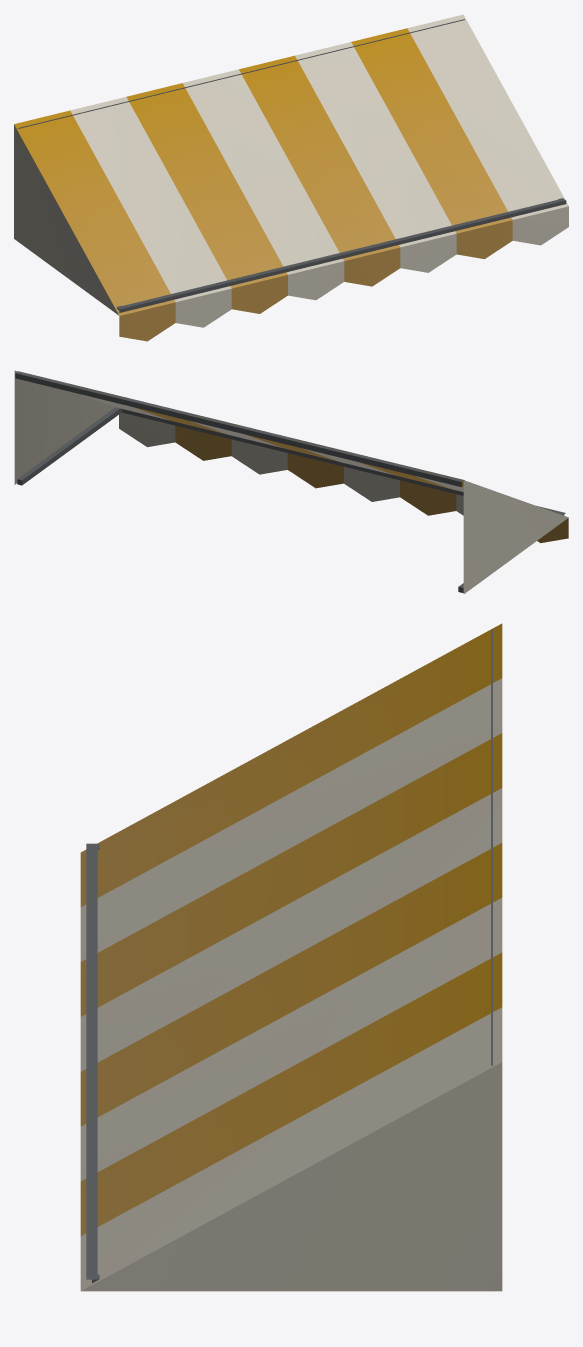
Rendered from shop.awning.yellow.glb.
3 views of the same model, one above another, from view 1: azimuth 30°, elevation 25°; view 2: azimuth 150°, elevation 25°; view 3: azimuth 270°, elevation 25° (orthographic). The views are drawn at different scales.
Parts seen in each view (by area): view 1: shop_awning_yellow; view 2: shop_awning_yellow; view 3: shop_awning_yellow.
Boxes of the visible parts, x1,y1,x2,y2 form: shop_awning_yellow: (14, 14, 568, 341); shop_awning_yellow: (14, 370, 568, 593); shop_awning_yellow: (80, 623, 502, 1291).
Size of what is drawn, in the model's own units: 3.2 by 1 by 1.3.
